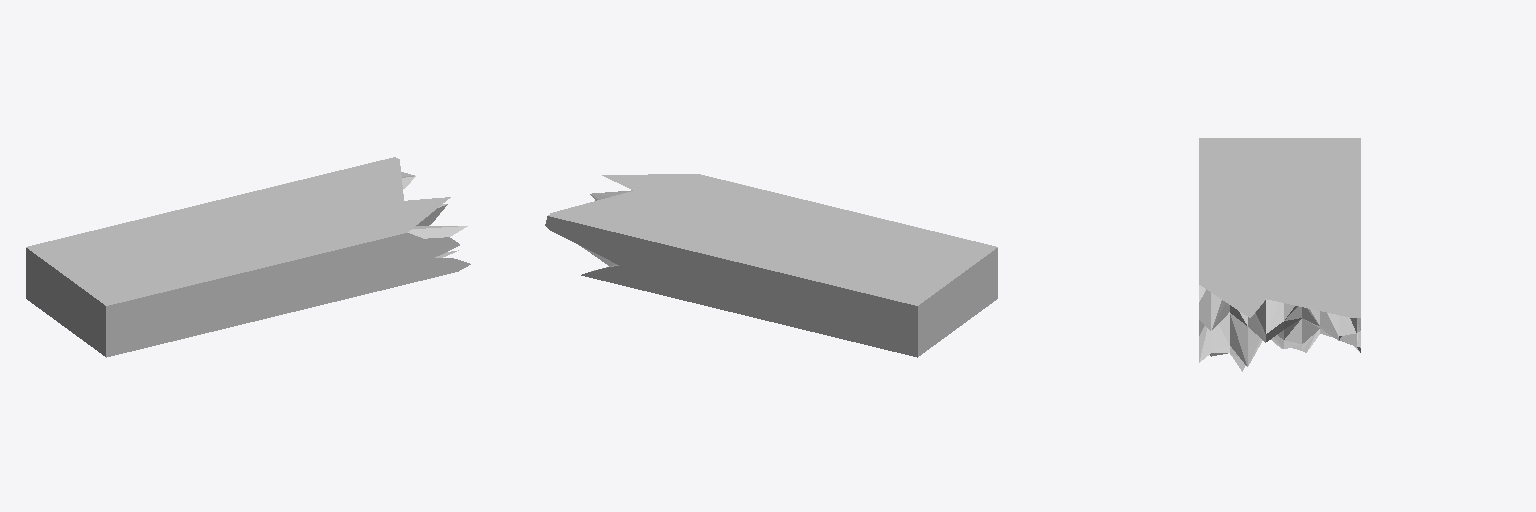
The model's file is broken plank small.obj.
3 renders of one model, left to right at view 1: azimuth 30°, elevation 25°; view 2: azimuth 150°, elevation 25°; view 3: azimuth 270°, elevation 25°, orthographic.
Visible parts, largest first — view 1: polySurface4; view 2: polySurface4; view 3: polySurface4.
Boxes of the visible parts, x1,y1,x2,y2 form: polySurface4: [26, 157, 470, 357]; polySurface4: [545, 174, 997, 357]; polySurface4: [1199, 138, 1360, 371].
Bounding box in the file's own units: 2.42 × 0.3126 × 0.8893.